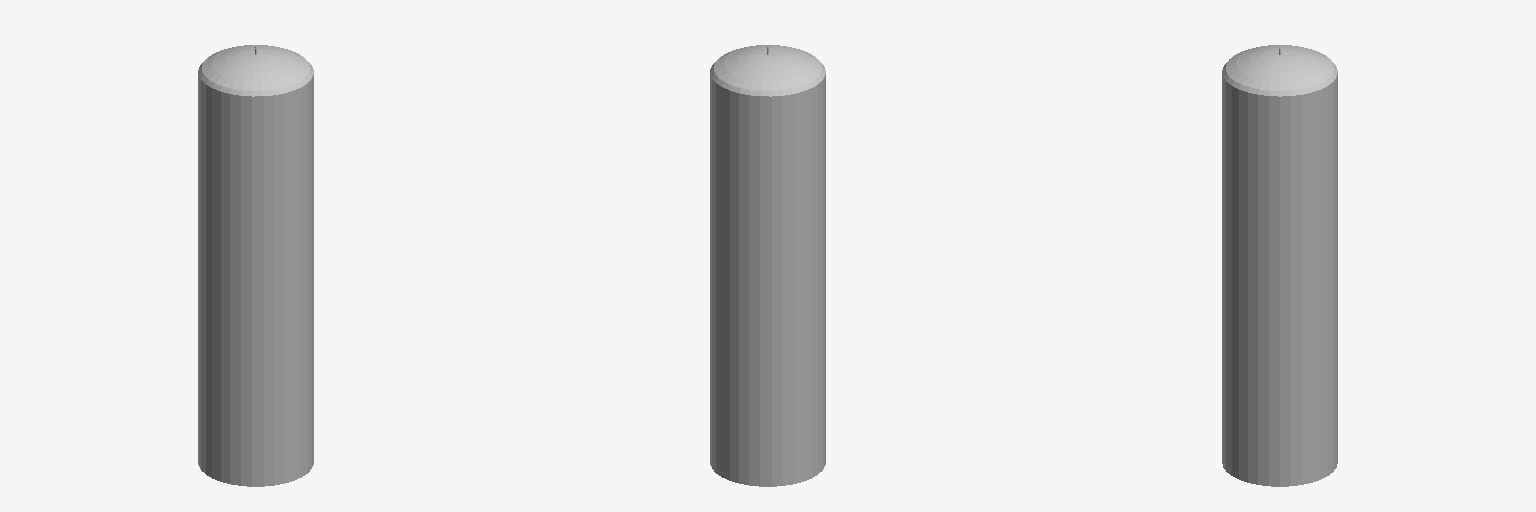
File: candle_full.obj
The picture shows the model from 3 angles: view 1: azimuth 30°, elevation 25°; view 2: azimuth 150°, elevation 25°; view 3: azimuth 270°, elevation 25°; orthographic projection.
Parts seen in each view (by area): view 1: candle_Cylinder.001; view 2: candle_Cylinder.001; view 3: candle_Cylinder.001.
Boxes of the visible parts, x1=… form: candle_Cylinder.001: x1=198, y1=45, x2=313, y2=486; candle_Cylinder.001: x1=710, y1=45, x2=825, y2=486; candle_Cylinder.001: x1=1222, y1=45, x2=1337, y2=486.
Size of the model in its own units: 0.5458 by 2.18 by 0.5458.